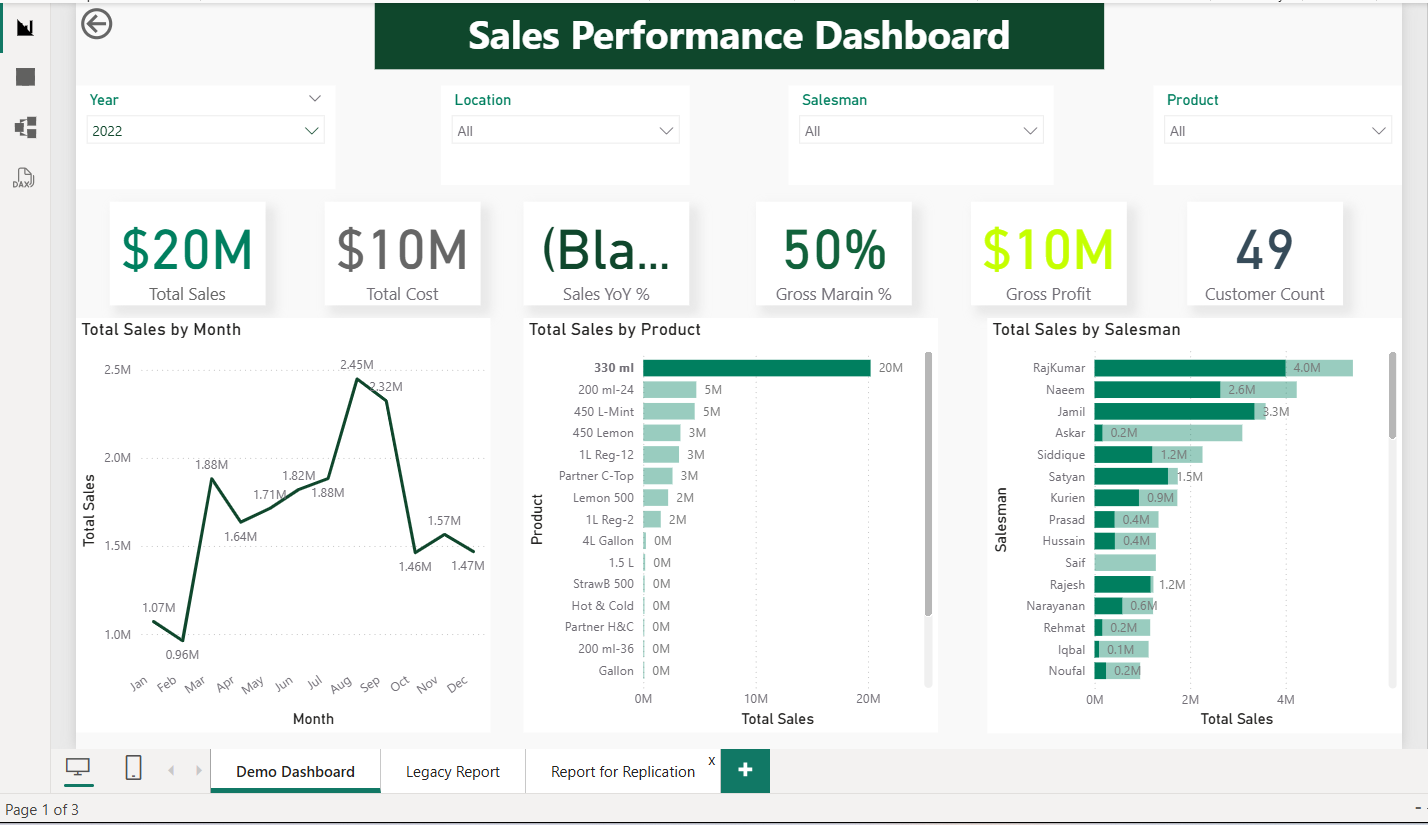

The page's visual inventory and layout, read from the dashboard file:
{"tool":"powerbi","page":{"name":"Demo  Dashboard","canvas":[1280,720],"ordinal":0},"visuals":[{"type":"textbox","box":[288,0,704,64],"z":0},{"type":"card","fields":{"Values":["Measures (4).Total Sales"]},"box":[32,192,150,100],"z":1000},{"type":"card","fields":{"Values":["Measures (4).Gross Margin %"]},"box":[656,192,150,100],"z":2000},{"type":"card","fields":{"Values":["Measures (4).Total Cost"]},"box":[240,192,150,100],"z":3000},{"type":"card","title":"Sales YoY %","fields":{"Values":["Measures (4).Sales YoY %"]},"box":[432,192,160,100],"z":4000},{"type":"lineChart","fields":{"Category":["DimDate.Month"],"Y":["Measures (4).Total Sales"]},"box":[0,304,400,400],"z":5000},{"type":"clusteredBarChart","fields":{"Category":["DimProduct.Product"],"Y":["Measures (4).Total Sales"]},"box":[432,304,400,400],"z":6000},{"type":"actionButton","box":[0,0,100,40],"z":7000},{"type":"card","fields":{"Values":["Measures (4).Customer Count"]},"box":[1072,192,150,100],"z":8000},{"type":"card","fields":{"Values":["Measures (4).Gross Profit"]},"box":[864,192,150,100],"z":9000},{"type":"slicer","fields":{"Values":["DimDate.Year"]},"box":[0,80,250,100],"z":10000},{"type":"slicer","fields":{"Values":["FactTransactions (2).Location"]},"box":[352,80,240,96],"z":11000},{"type":"slicer","fields":{"Values":["DimSalesTeam.Salesman"]},"box":[688,80,256,96],"z":12000},{"type":"slicer","fields":{"Values":["DimProduct.Product"]},"box":[1040,80,240,96],"z":13000},{"type":"clusteredBarChart","fields":{"Y":["Measures (4).Total Sales"],"Category":["DimSalesTeam.Salesman"]},"box":[880,304,400,400],"z":14000}]}

Visuals, with their boxes on the page's 1280x720 design canvas (x1, y1, x2, y2). These are canvas units, not pixel positions in the 1428x825 screenshot, which may show the page scaled, cropped or inside an application window:
textbox: [288,0,992,64]
card - Measures (4).Total Sales: [32,192,182,292]
card - Measures (4).Gross Margin %: [656,192,806,292]
card - Measures (4).Total Cost: [240,192,390,292]
"Sales YoY %" card: [432,192,592,292]
lineChart - DimDate.Month x Measures (4).Total Sales: [0,304,400,704]
clusteredBarChart - DimProduct.Product x Measures (4).Total Sales: [432,304,832,704]
actionButton: [0,0,100,40]
card - Measures (4).Customer Count: [1072,192,1222,292]
card - Measures (4).Gross Profit: [864,192,1014,292]
slicer - DimDate.Year: [0,80,250,180]
slicer - FactTransactions (2).Location: [352,80,592,176]
slicer - DimSalesTeam.Salesman: [688,80,944,176]
slicer - DimProduct.Product: [1040,80,1280,176]
clusteredBarChart - Measures (4).Total Sales x DimSalesTeam.Salesman: [880,304,1280,704]
